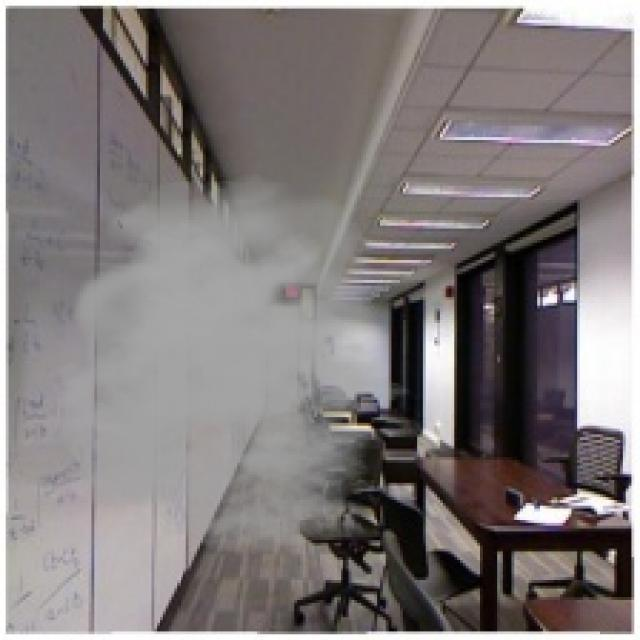smoke: (40, 175, 429, 554)
